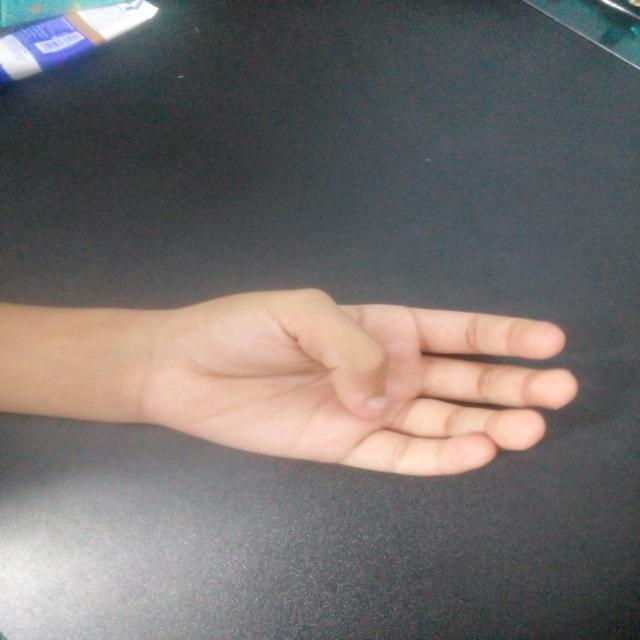Open Hand: (153, 282, 583, 480)
